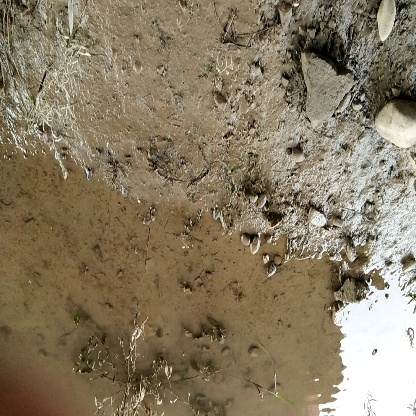grass: (98, 342, 175, 416)
